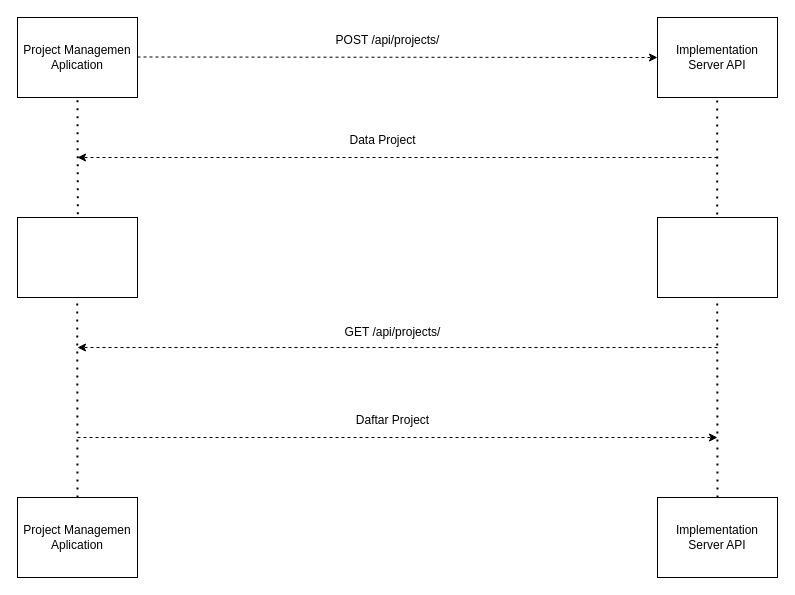
This 795x595 diagram has some shape labels left out. The centre of each missing label's shape, as x and y in pixels:
"Implementation Database" goes at [717,257].
"Project Management Database" goes at [77,257].
